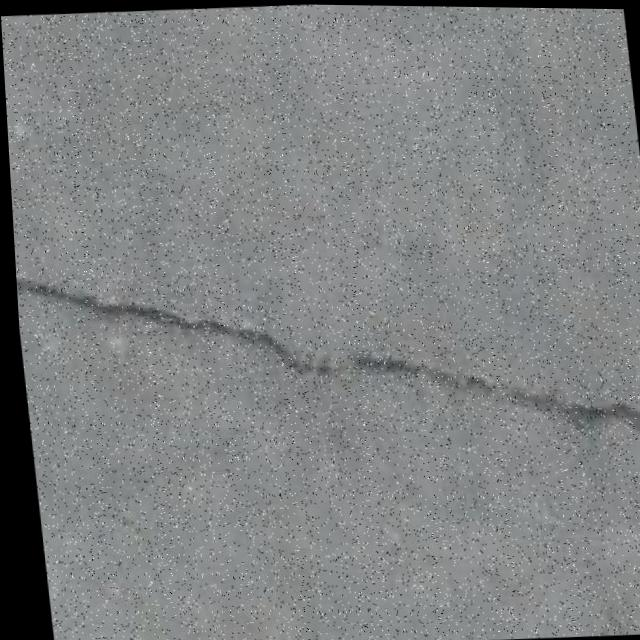Crack: (11, 235, 640, 498)
